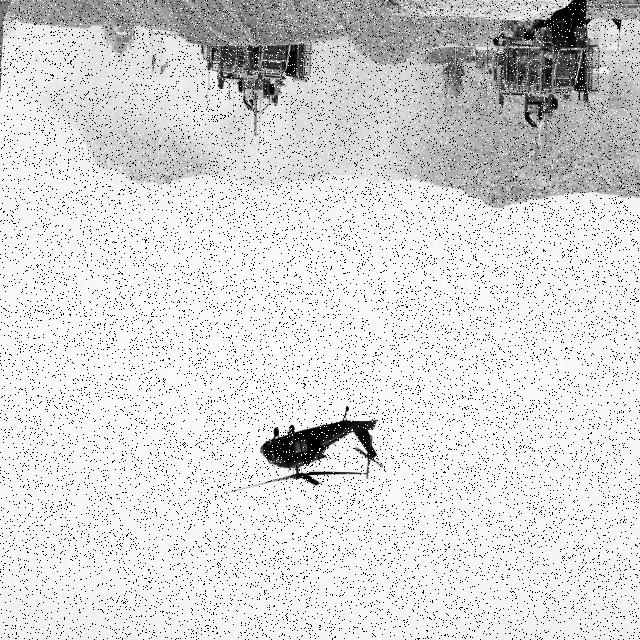MIL_MBT: (188, 49, 310, 149)
